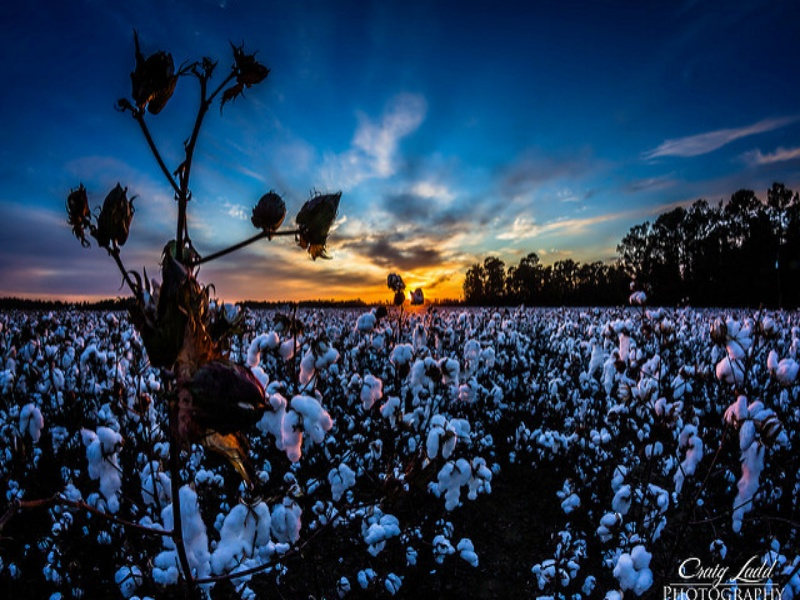cotton: (1, 302, 355, 591), (344, 304, 789, 532)
